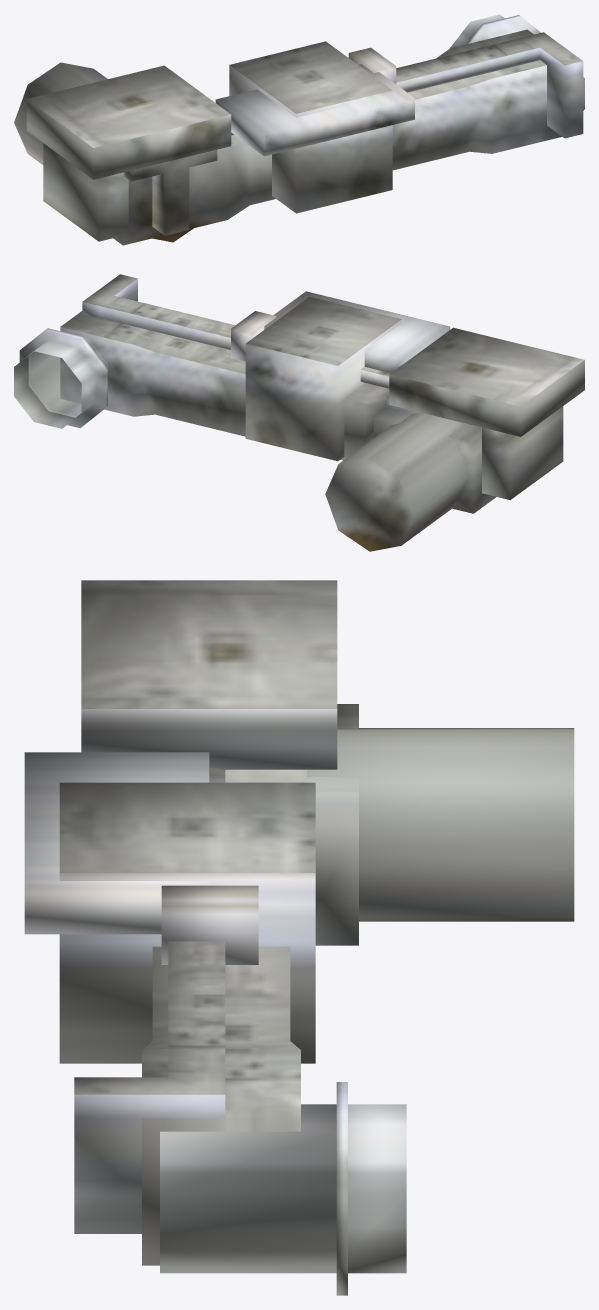
Rendered from dextre_arm_1_shoulder_pitch.dae.
3 views of the same model, one above another, from view 1: azimuth 30°, elevation 25°; view 2: azimuth 150°, elevation 25°; view 3: azimuth 270°, elevation 25° (orthographic). The views are drawn at different scales.
Visible parts, largest first — view 1: 29 DEXTRE.012; view 2: 29 DEXTRE.012; view 3: 29 DEXTRE.012.
Part boxes in pixels (<box>): 29 DEXTRE.012: <box>14,14,584,245</box>; 29 DEXTRE.012: <box>14,274,584,551</box>; 29 DEXTRE.012: <box>24,580,574,1295</box>.
Size of the model in its own units: 1.49 by 0.711 by 0.3614.
1 material, 1 textured.
